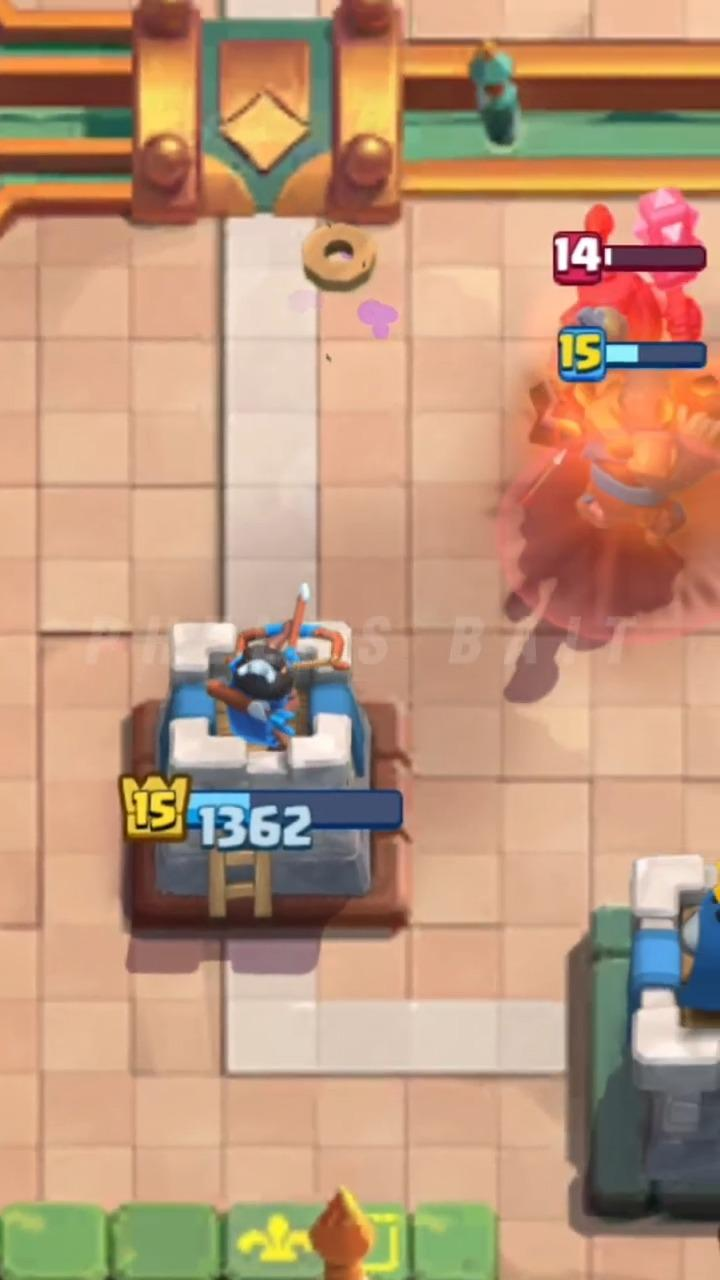knight: (535, 371, 696, 546)
